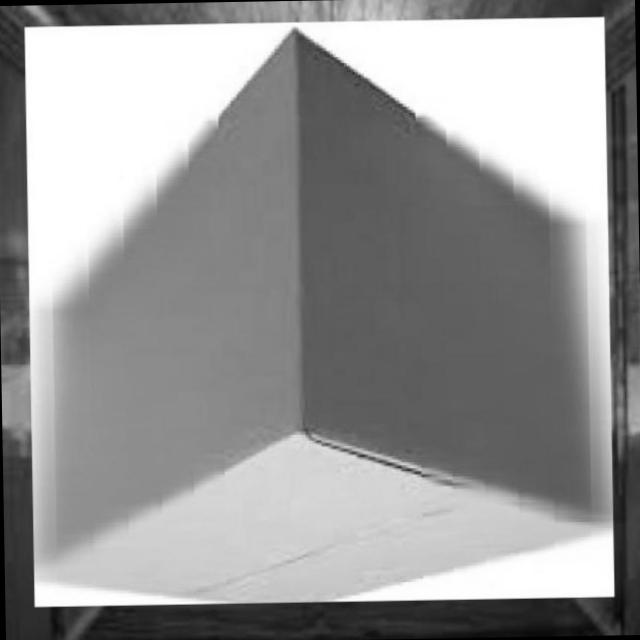box: (14, 7, 623, 614)
